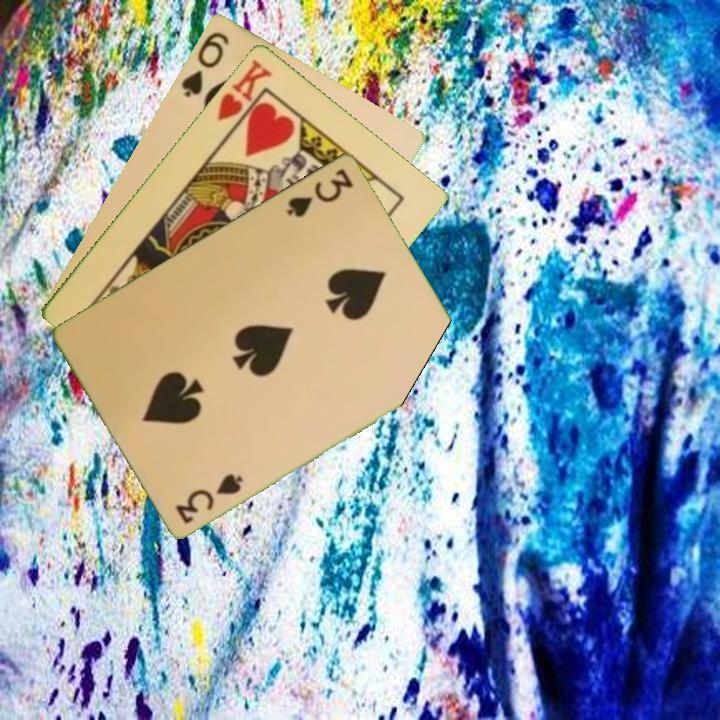3s: (171, 469, 247, 526), (283, 164, 357, 220)
6s: (177, 27, 232, 100)
Kh: (213, 54, 275, 136)
